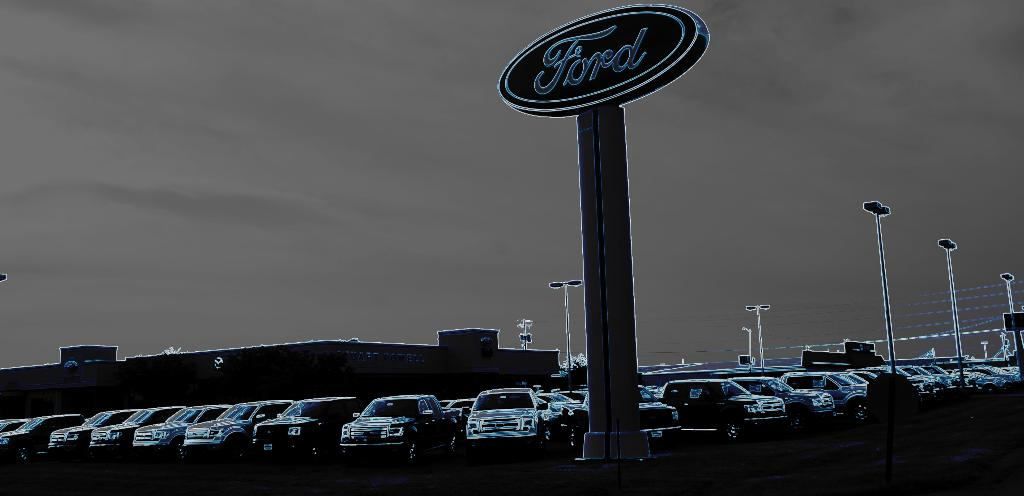Car: (0, 363, 1018, 458), (353, 392, 467, 464)
